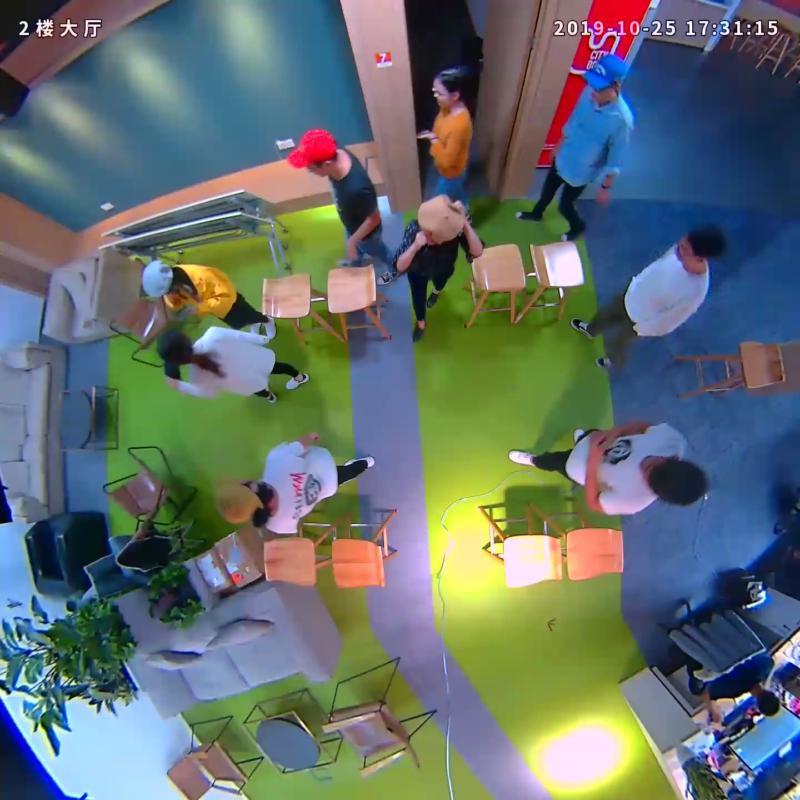head: (642, 457, 707, 507), (212, 474, 272, 525), (285, 127, 339, 179), (416, 193, 466, 246), (580, 54, 628, 99), (675, 226, 725, 267), (140, 258, 181, 299), (155, 328, 193, 367), (430, 69, 464, 109)
